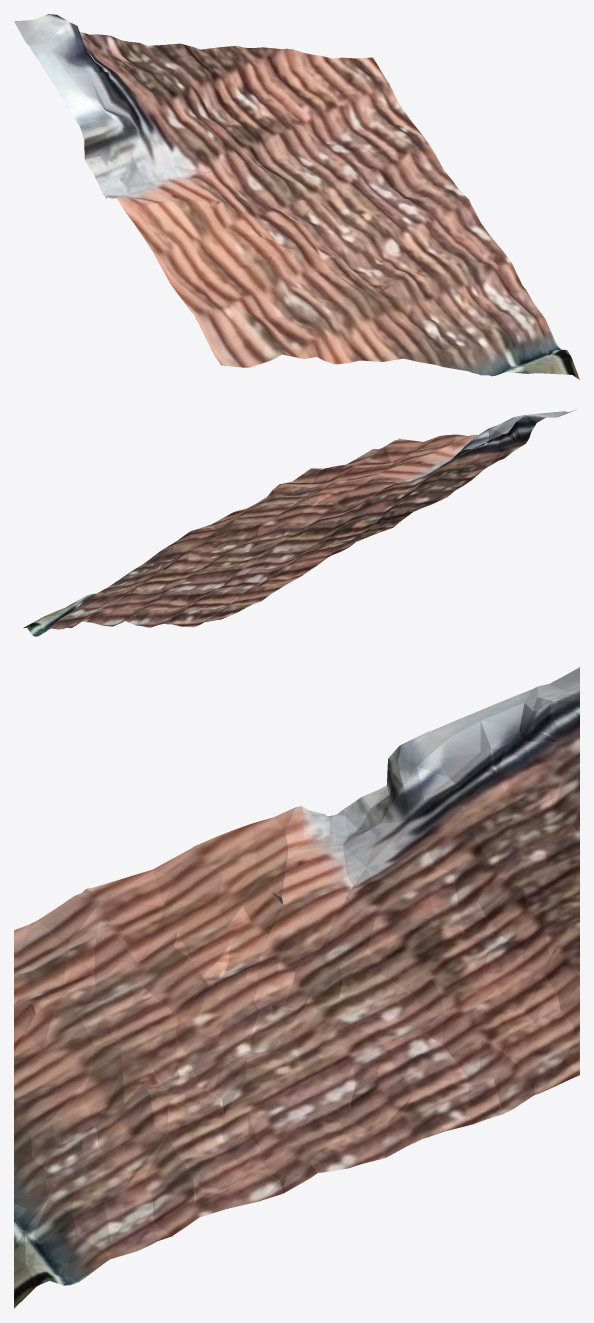
The picture shows the model from 3 angles, top to bottom: view 1: azimuth 30°, elevation 25°; view 2: azimuth 210°, elevation 25°; view 3: azimuth 270°, elevation 25°; orthographic projection. The views are drawn at different scales.
Size of the model in its own units: 1.67 by 1.31 by 1.67.
Materials: 3 (3 with a texture image).
